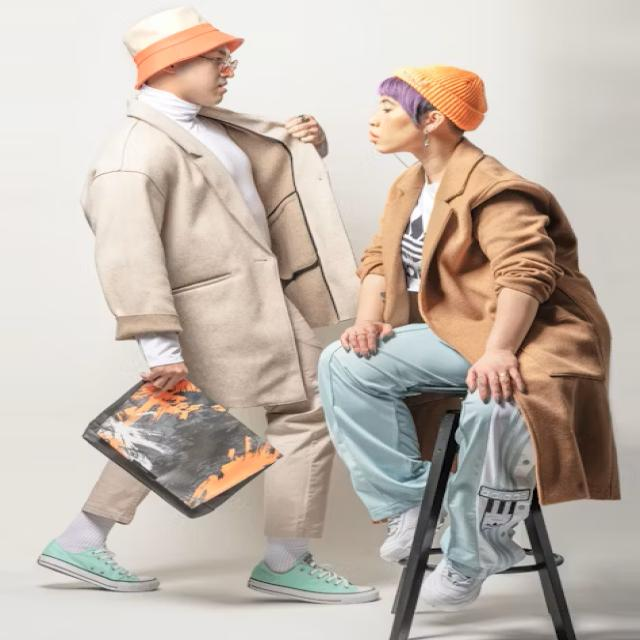Edited images: (58, 16, 592, 614)
